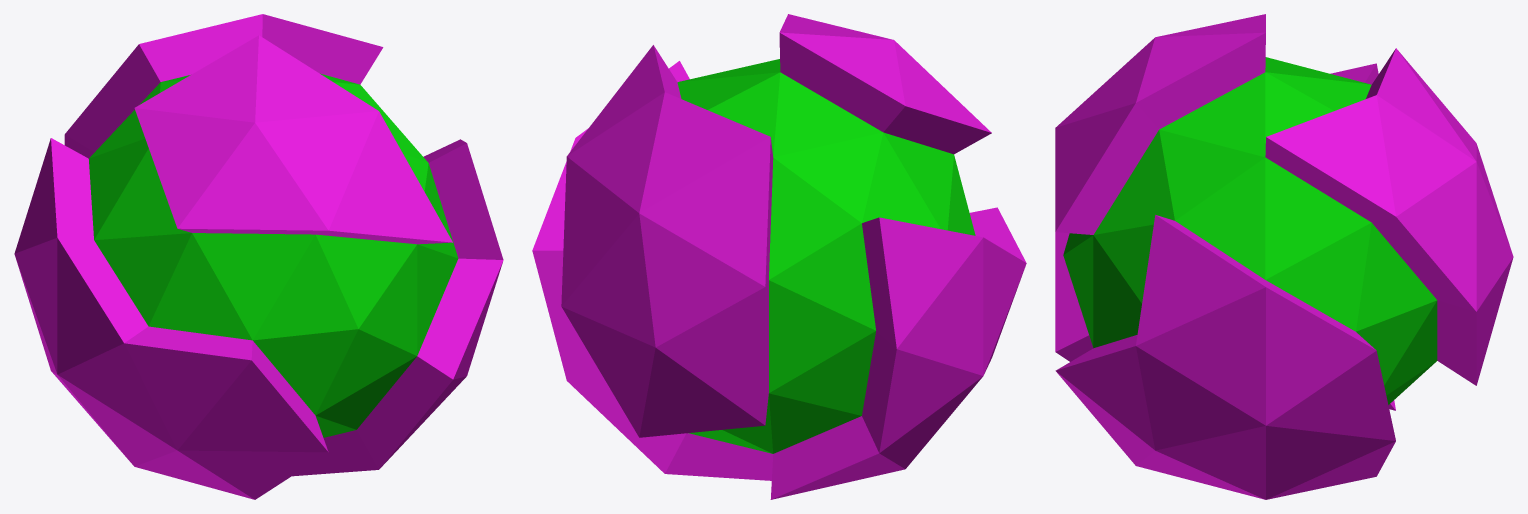
The model's file is SM_MeteoritePiece.fbx.
3 views of the same model, side by side, from view 1: azimuth 30°, elevation 25°; view 2: azimuth 150°, elevation 25°; view 3: azimuth 270°, elevation 25° (orthographic).
Parts seen in each view (by area): view 1: Icosphere; view 2: Icosphere; view 3: Icosphere.
Boxes of the visible parts, left/top/right/bottom form: Icosphere: left=14, top=14, right=503, bottom=499; Icosphere: left=532, top=14, right=1026, bottom=499; Icosphere: left=1055, top=14, right=1513, bottom=499.
Bounding box in the file's own units: 0.0483 × 0.0508 × 0.047.
